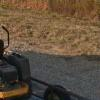Tractor: (2, 34, 68, 100)
